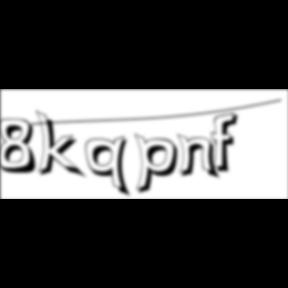8: (1, 117, 44, 176)
f: (212, 111, 244, 175)
k: (36, 108, 88, 181)
n: (176, 132, 224, 181)
p: (135, 132, 185, 198)
q: (86, 135, 134, 200)
